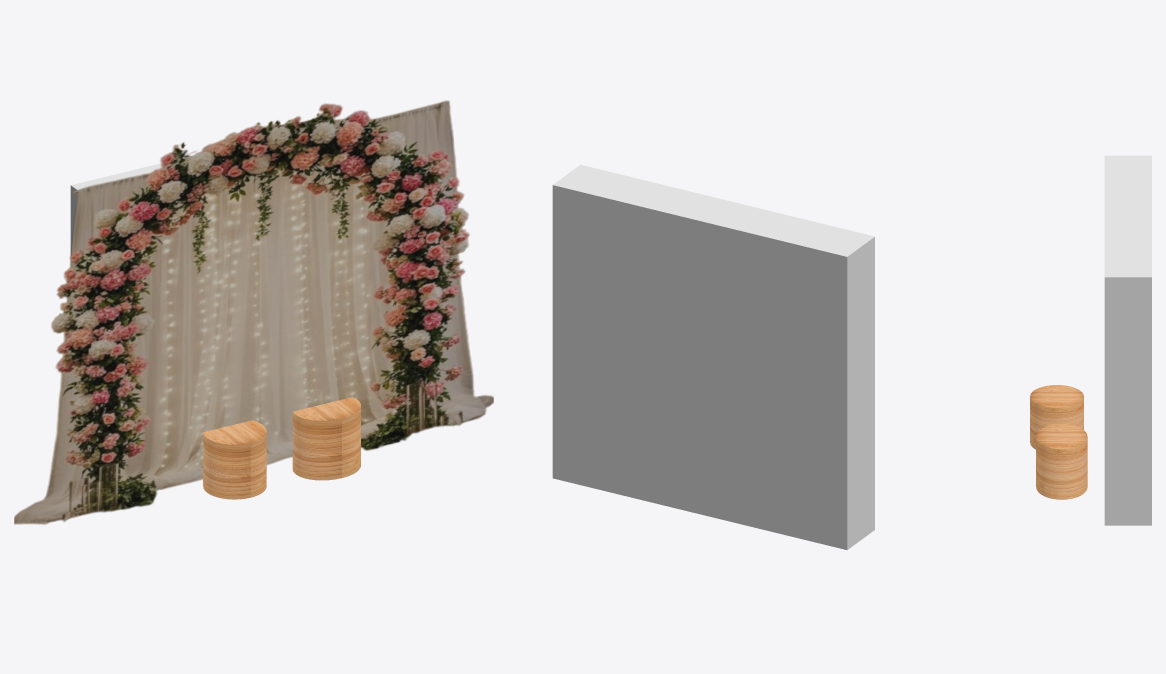
The model's file is lowbudget-wedding-theme.glb.
The picture shows the model from 3 angles, left to right: view 1: azimuth 30°, elevation 25°; view 2: azimuth 150°, elevation 25°; view 3: azimuth 270°, elevation 25°; orthographic projection. The views are drawn at different scales.
Visible parts, largest first — view 1: Plane, Cylinder (×2), Box; view 2: Box; view 3: Box, Cylinder (×2).
Boxes of the visible parts, x1=… form: Plane: x1=14, y1=100, x2=493, y2=524; Cylinder (×2): x1=203, y1=397, x2=360, y2=499; Box: x1=70, y1=115, x2=373, y2=255; Box: x1=552, y1=164, x2=874, y2=549; Box: x1=1104, y1=155, x2=1151, y2=525; Cylinder (×2): x1=1030, y1=385, x2=1087, y2=499.
Bounding box in the file's own units: 4.72 × 4.98 × 1.23.
Materials: 4 (3 with a texture image).
